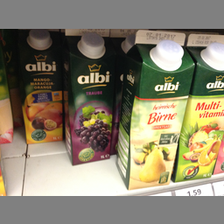juice: (117, 31, 195, 190), (63, 30, 117, 166), (18, 30, 66, 143)
